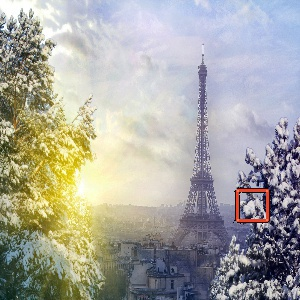square: (234, 188, 270, 223)
